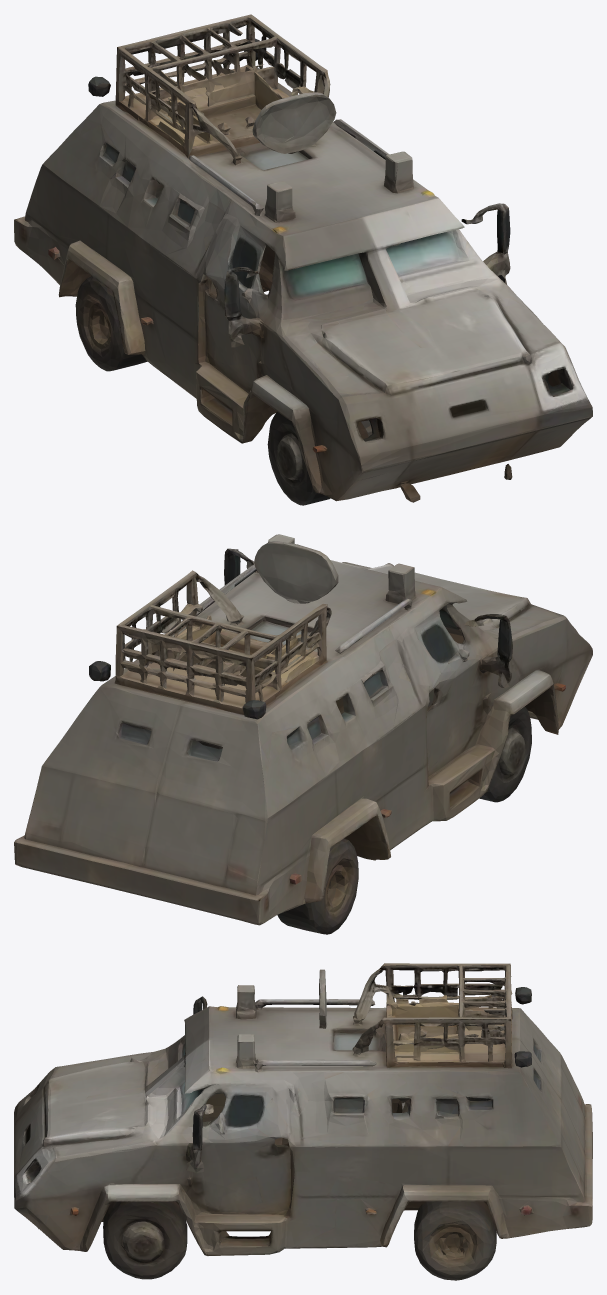
Rendered from 0330ae28-3a12-4a15-aba7-11f2f3edf6c0.glb.
3 views of the same model, one above another, from view 1: azimuth 30°, elevation 25°; view 2: azimuth 150°, elevation 25°; view 3: azimuth 270°, elevation 25° (orthographic). The views are drawn at different scales.
Parts seen in each view (by area): view 1: geometry_0; view 2: geometry_0; view 3: geometry_0.
Part boxes in pixels (box(x1,y1,x2,y2)): geometry_0: box(14, 14, 592, 505); geometry_0: box(14, 534, 592, 934); geometry_0: box(14, 963, 592, 1280).
Bounding box in the file's own units: 0.4838 × 0.4901 × 0.9982.
Materials: 1 (1 with a texture image).
